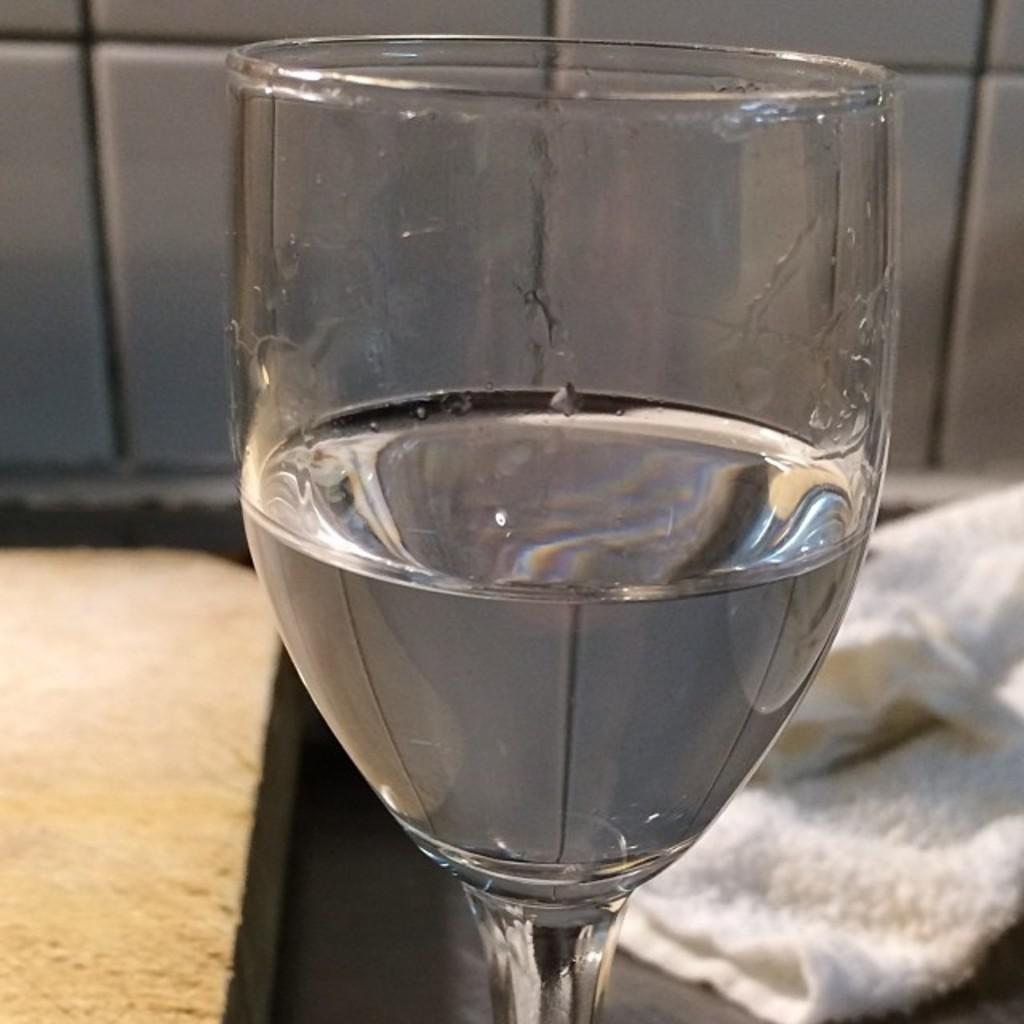glass-wine: (214, 29, 901, 1023)
